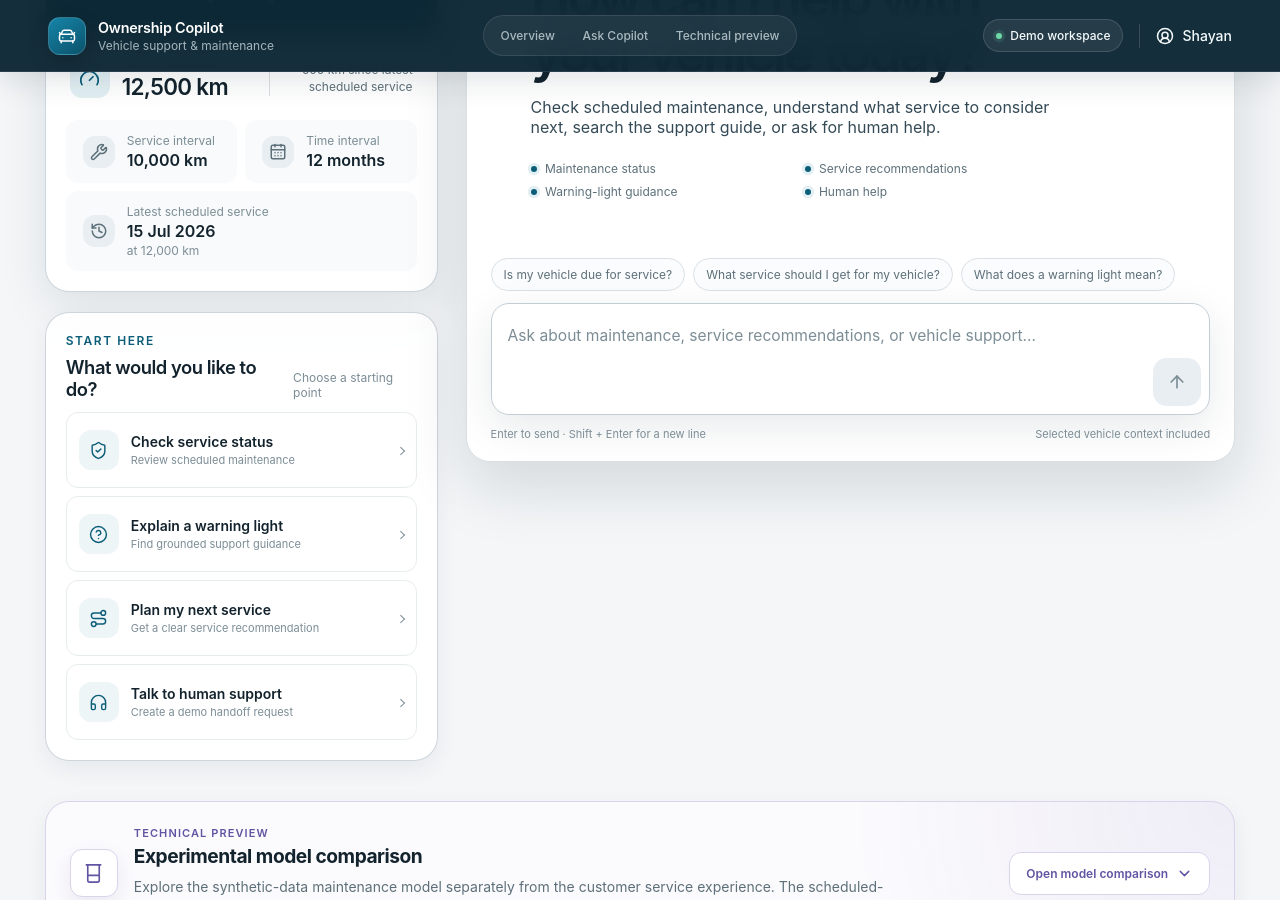
Test: App › places a selected quick action into and focuses the assistant composer
(page scrolled)
Click the button "Check service status Review scheduled maintenance": (241, 450) [66,412,417,488]
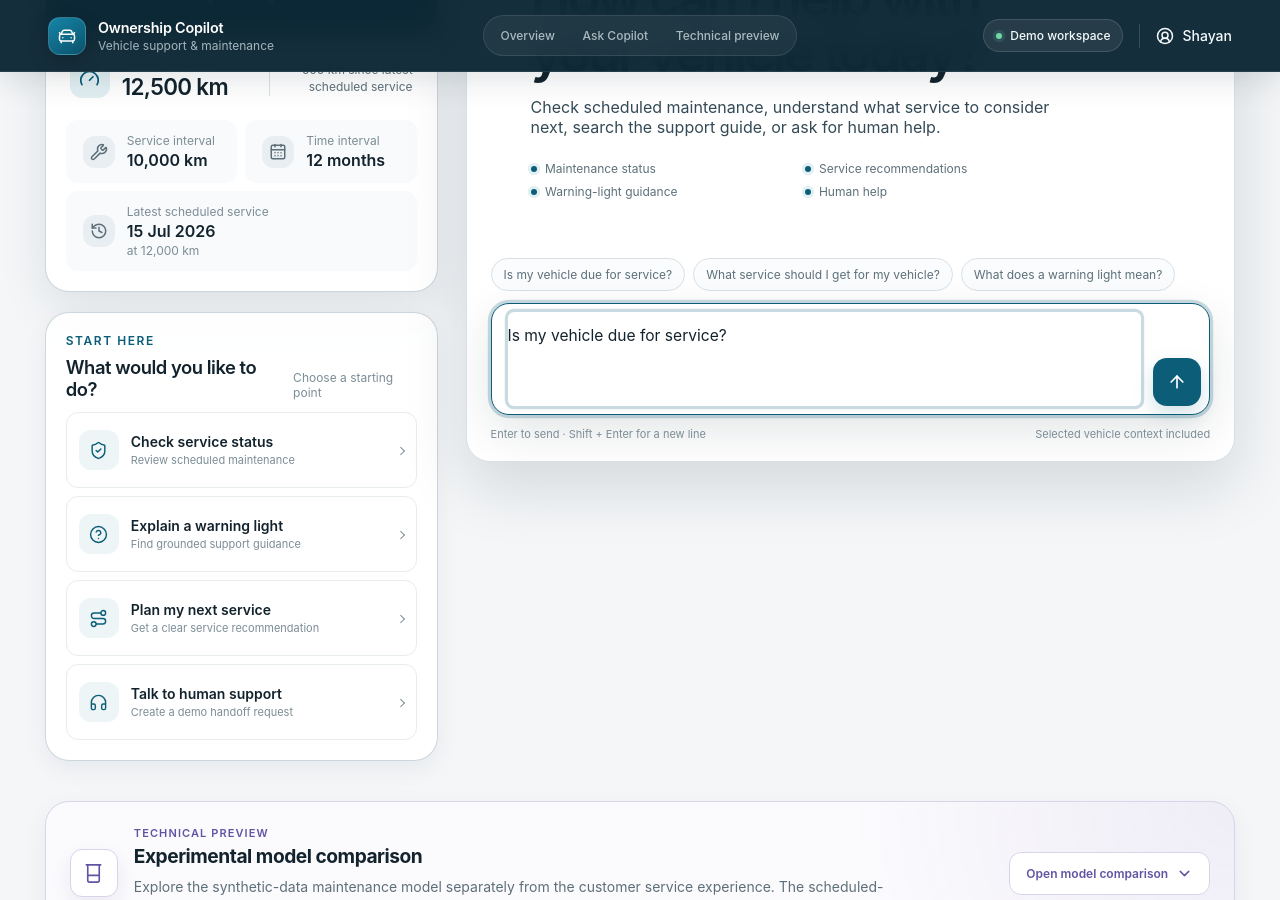
Expected: the text box named "Ask the ownership assistant" holds "Is my vehicle due for service?", [508,312,1141,406]
